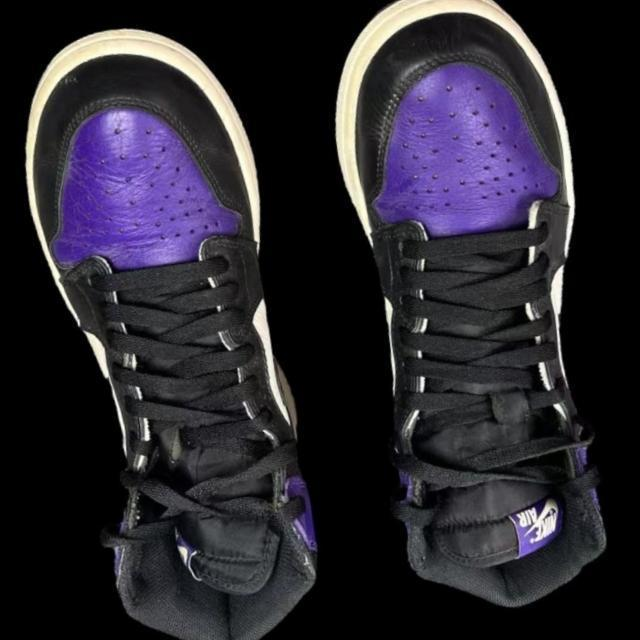nike original jordan 1: (0, 7, 335, 640), (311, 0, 637, 628)
